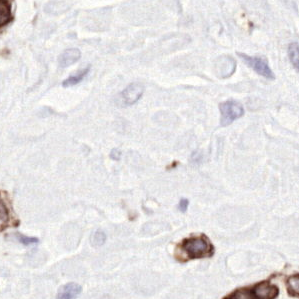Lymphocyte: (174, 234, 217, 259)
